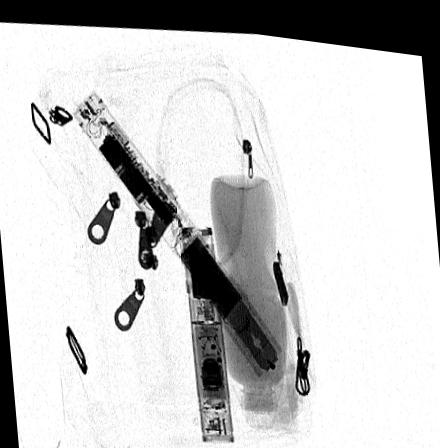Baton: (69, 87, 285, 372), (177, 218, 234, 438)
